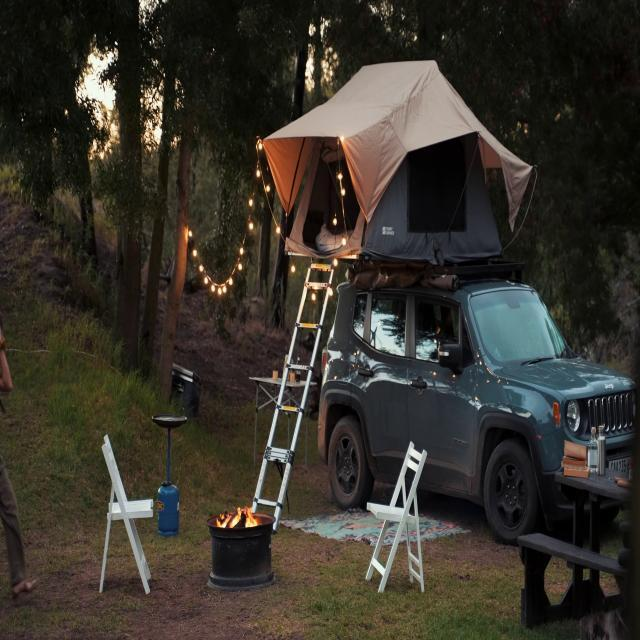Fire: (222, 498, 261, 532)
